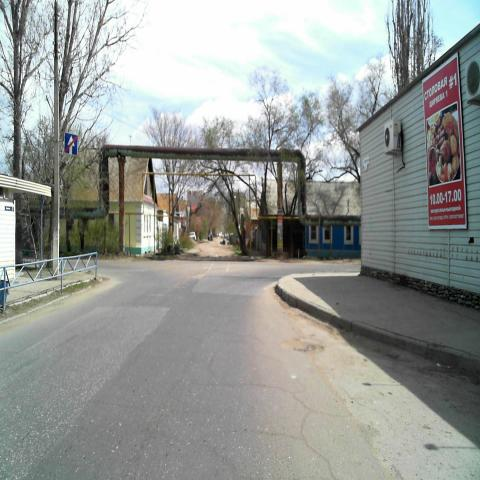5_6: (64, 131, 78, 154)
